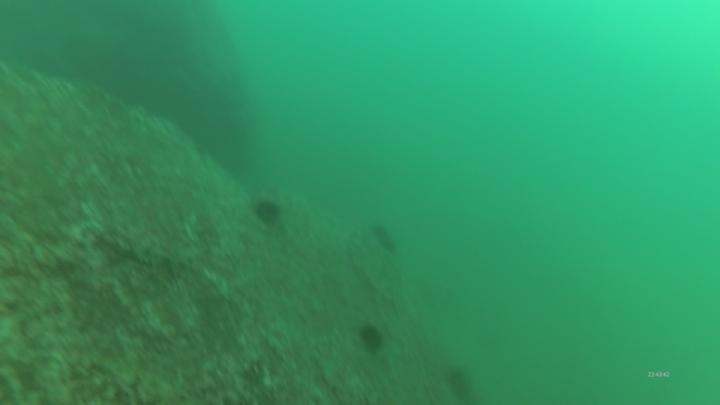echinus: (442, 362, 478, 402), (368, 220, 401, 257), (355, 320, 388, 356), (251, 196, 284, 228)
